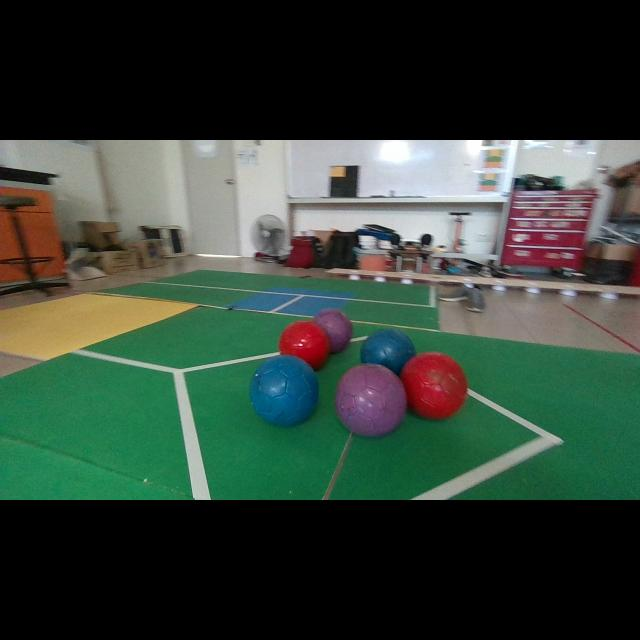B: (250, 355, 319, 425), (361, 329, 415, 375)
P: (335, 364, 406, 436), (314, 309, 352, 353)
R: (400, 351, 468, 419), (279, 321, 331, 369)
